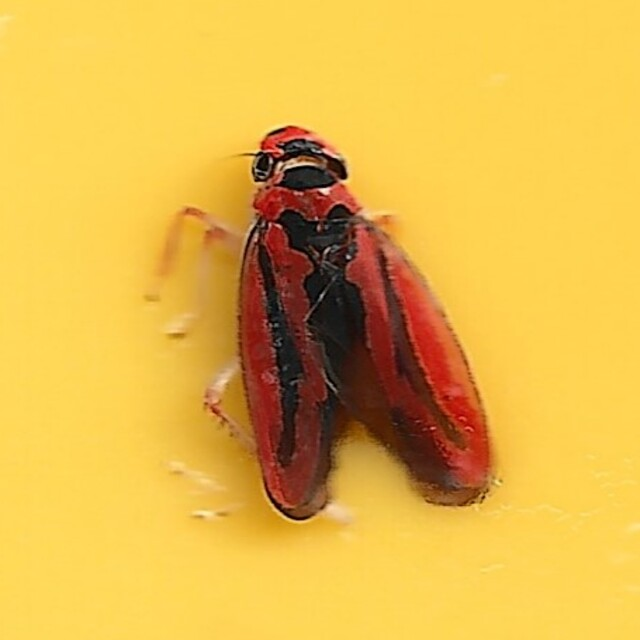Hemiptera: (141, 120, 499, 520)
